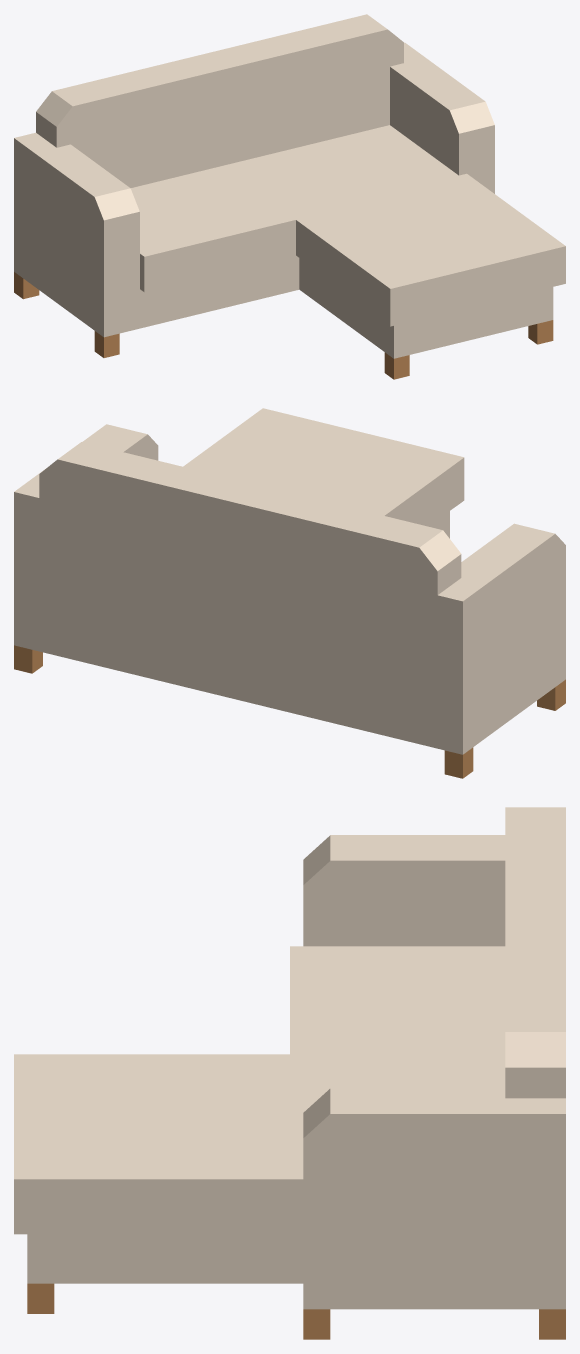
The model's file is kitLoungeSofaLong.glb.
The picture shows the model from 3 angles, top to bottom: view 1: azimuth 30°, elevation 25°; view 2: azimuth 150°, elevation 25°; view 3: azimuth 270°, elevation 25°; orthographic projection. The views are drawn at different scales.
Visible parts, largest first — view 1: kitLoungeSofaLong_fabric, kitLoungeSofaLong_wood; view 2: kitLoungeSofaLong_fabric, kitLoungeSofaLong_wood; view 3: kitLoungeSofaLong_fabric, kitLoungeSofaLong_wood.
Part boxes in pixels (x1,y1,x2,y2): kitLoungeSofaLong_fabric: [14, 14, 565, 358]; kitLoungeSofaLong_wood: [14, 272, 553, 379]; kitLoungeSofaLong_fabric: [14, 408, 565, 754]; kitLoungeSofaLong_wood: [14, 645, 565, 778]; kitLoungeSofaLong_fabric: [14, 807, 565, 1309]; kitLoungeSofaLong_wood: [27, 1283, 565, 1339].
Size of the model in its own units: 1.96 by 0.92 by 1.64.
